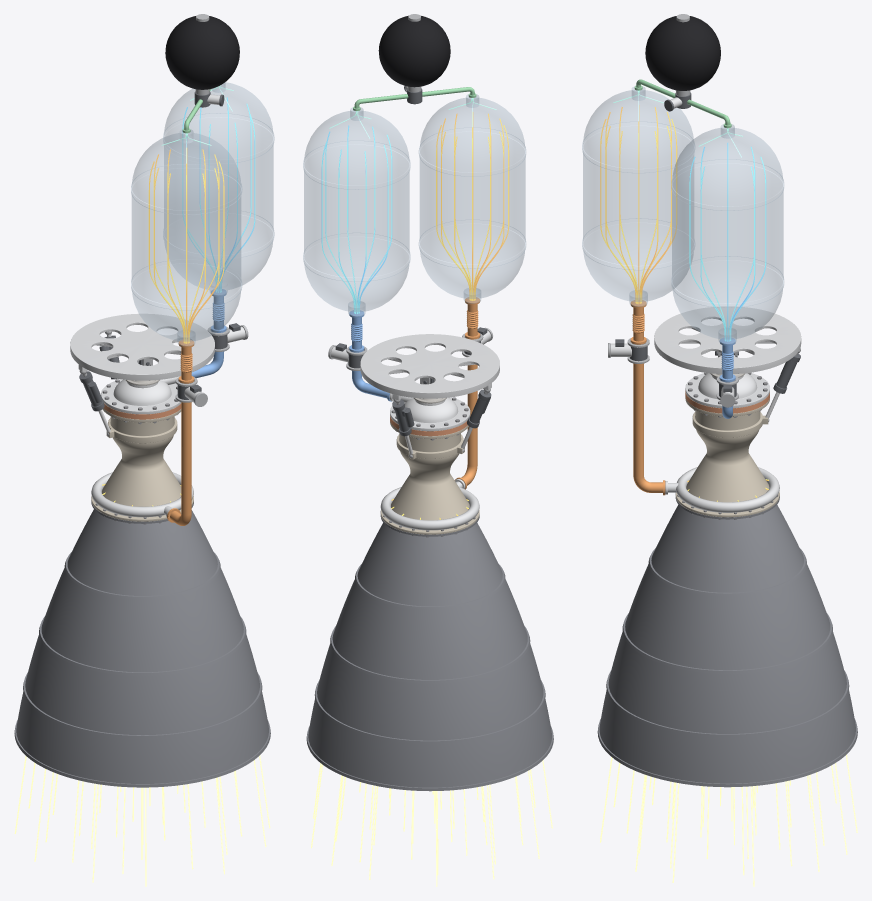
File: pressure-fed_d.glb
3 views of the same model, side by side, from view 1: azimuth 30°, elevation 25°; view 2: azimuth 150°, elevation 25°; view 3: azimuth 270°, elevation 25° (orthographic). The views are drawn at different scales.
Parts seen in each view (by area): view 1: PF_NozzleExtension, PF_TankFuel, PF_TankOxidizer, PF_ThrustMount, PF_ChamberJacket, PF_HeliumTank, PF_FLOW_HotGas, PF_FLOW_Fuel, PF_OxidizerDome, PF_FLOW_Oxidizer, PF_InletLineFuel, PF_FuelManifold (+5 smaller); view 2: PF_NozzleExtension, PF_TankOxidizer, PF_TankFuel, PF_ThrustMount, PF_ChamberJacket, PF_HeliumTank, PF_FLOW_HotGas, PF_FLOW_Fuel, PF_FLOW_Oxidizer, PF_OxidizerDome, PF_FuelManifold, PF_InletLineFuel (+6 smaller); view 3: PF_NozzleExtension, PF_TankOxidizer, PF_TankFuel, PF_ThrustMount, PF_ChamberJacket, PF_HeliumTank, PF_FLOW_HotGas, PF_FLOW_Fuel, PF_FLOW_Oxidizer, PF_FuelManifold, PF_OxidizerDome, PF_InletLineFuel (+5 smaller).
Part boxes in pixels (<box>): PF_NozzleExtension: <box>14,501,270,787</box>; PF_TankFuel: <box>131,129,241,345</box>; PF_TankOxidizer: <box>163,82,274,295</box>; PF_ThrustMount: <box>70,313,214,380</box>; PF_ChamberJacket: <box>91,408,193,521</box>; PF_HeliumTank: <box>165,14,239,95</box>; PF_FLOW_HotGas: <box>14,755,270,886</box>; PF_FLOW_Fuel: <box>102,148,224,506</box>; PF_OxidizerDome: <box>101,376,181,414</box>; PF_FLOW_Oxidizer: <box>182,97,255,292</box>; PF_InletLineFuel: <box>167,402,191,525</box>; PF_FuelManifold: <box>91,472,193,517</box>; PF_NozzleExtension: <box>306,515,553,791</box>; PF_TankOxidizer: <box>303,107,410,316</box>; PF_TankFuel: <box>419,94,525,303</box>; PF_ThrustMount: <box>360,334,499,400</box>; PF_ChamberJacket: <box>380,421,479,534</box>; PF_HeliumTank: <box>378,14,450,92</box>; PF_FLOW_HotGas: <box>311,760,552,886</box>; PF_FLOW_Fuel: <box>391,112,509,519</box>; PF_FLOW_Oxidizer: <box>321,125,392,313</box>; PF_OxidizerDome: <box>389,393,470,431</box>; PF_FuelManifold: <box>380,479,479,530</box>; PF_InletLineFuel: <box>454,364,477,489</box>; PF_NozzleExtension: <box>597,496,857,787</box>; PF_TankOxidizer: <box>671,124,783,344</box>; PF_TankFuel: <box>582,87,694,306</box>; PF_ThrustMount: <box>654,306,801,374</box>; PF_ChamberJacket: <box>675,396,779,517</box>; PF_HeliumTank: <box>645,14,720,96</box>; PF_FLOW_HotGas: <box>600,754,857,886</box>; PF_FLOW_Fuel: <box>600,105,768,501</box>; PF_FLOW_Oxidizer: <box>689,142,766,341</box>; PF_FuelManifold: <box>665,467,779,512</box>; PF_OxidizerDome: <box>685,373,769,408</box>; PF_InletLineFuel: <box>633,363,665,495</box>.
Size of the model in its own units: 1.24 by 4.14 by 1.24.
